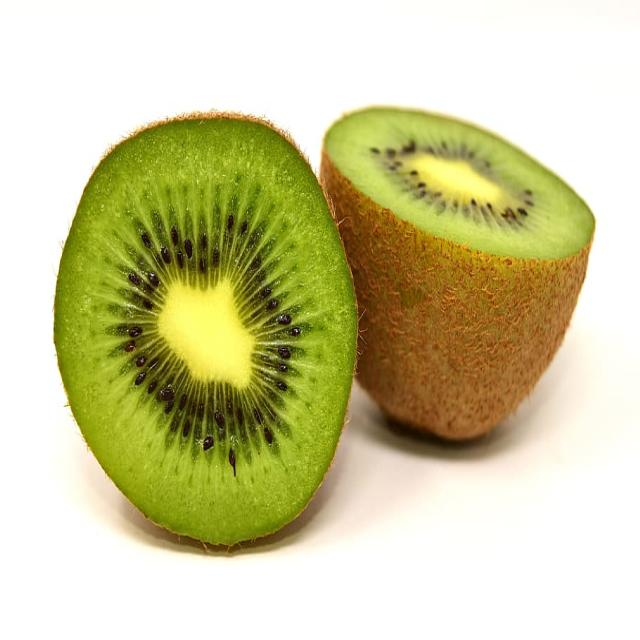kiwi: (52, 113, 359, 554), (323, 106, 596, 447)
